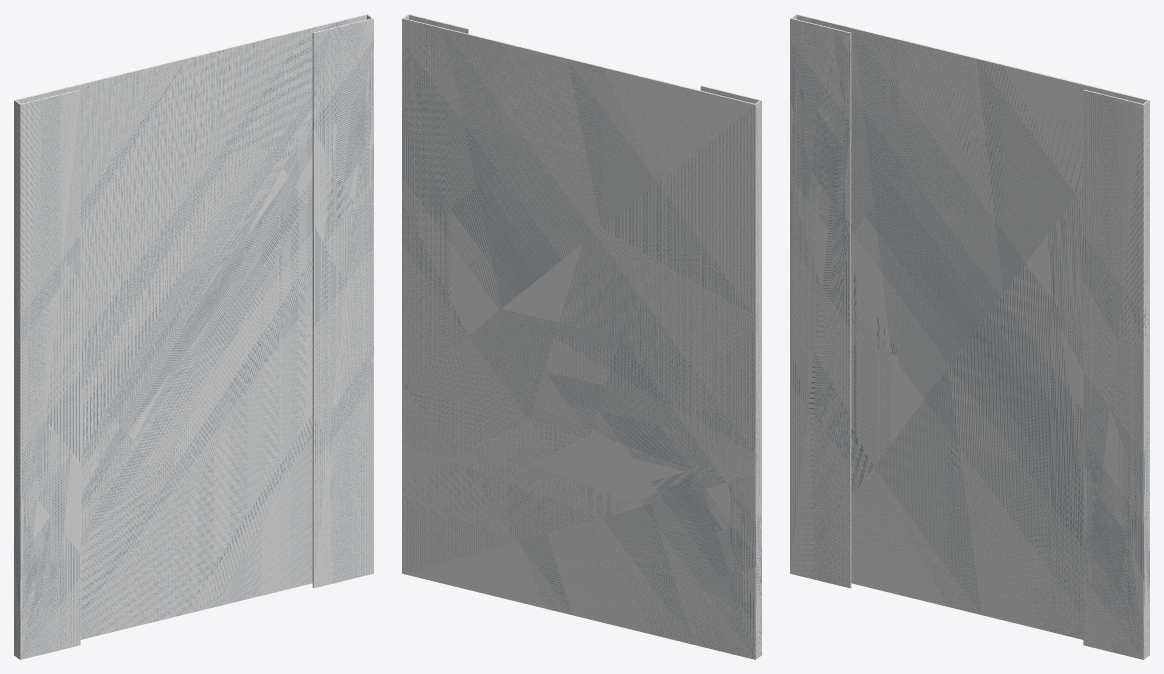
3 views of the same model, side by side, from view 1: azimuth 30°, elevation 25°; view 2: azimuth 150°, elevation 25°; view 3: azimuth 330°, elevation 25° (orthographic).
Visible parts, largest first — view 1: group_0; view 2: group_0; view 3: group_0.
Boxes of the visible parts, x1,y1,x2,y2 form: group_0: (14, 14, 373, 659); group_0: (402, 14, 761, 659); group_0: (790, 14, 1149, 659).
Bounding box in the file's own units: 11.81 × 0.3622 × 17.72.
